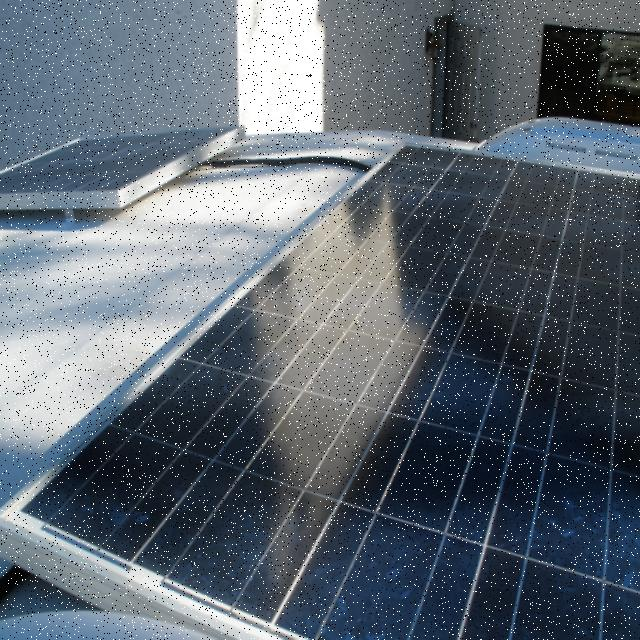dusty: (35, 133, 640, 640)
